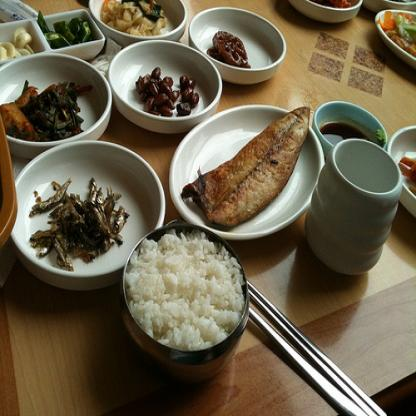Peixe: (186, 95, 316, 230)
